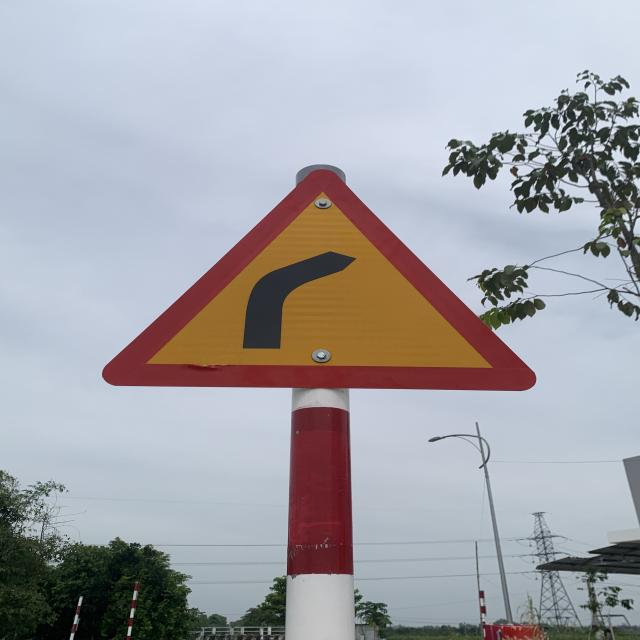Duong_Nguoi_Di_Bo_Cat_Ngang: (99, 165, 537, 390)
